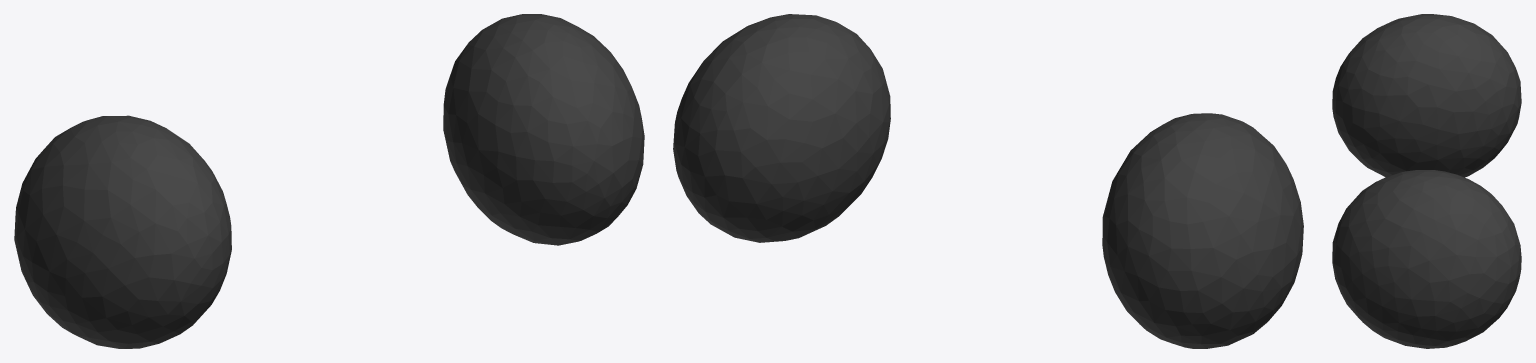
Rendered from details_eyes.glb.
The picture shows the model from 3 angles, left to right: view 1: azimuth 30°, elevation 25°; view 2: azimuth 150°, elevation 25°; view 3: azimuth 270°, elevation 25°; orthographic projection. The views are drawn at different scales.
Parts seen in each view (by area): view 1: details_eyes; view 2: details_eyes; view 3: details_eyes.
Boxes of the visible parts, left/top/right/bottom form: details_eyes: left=14, top=14, right=644, bottom=348; details_eyes: left=673, top=14, right=1303, bottom=348; details_eyes: left=1332, top=14, right=1521, bottom=348.
Bounding box in the file's own units: 0.00208 × 0.000705 × 0.000742.
Materials: 1 (1 with a texture image).
